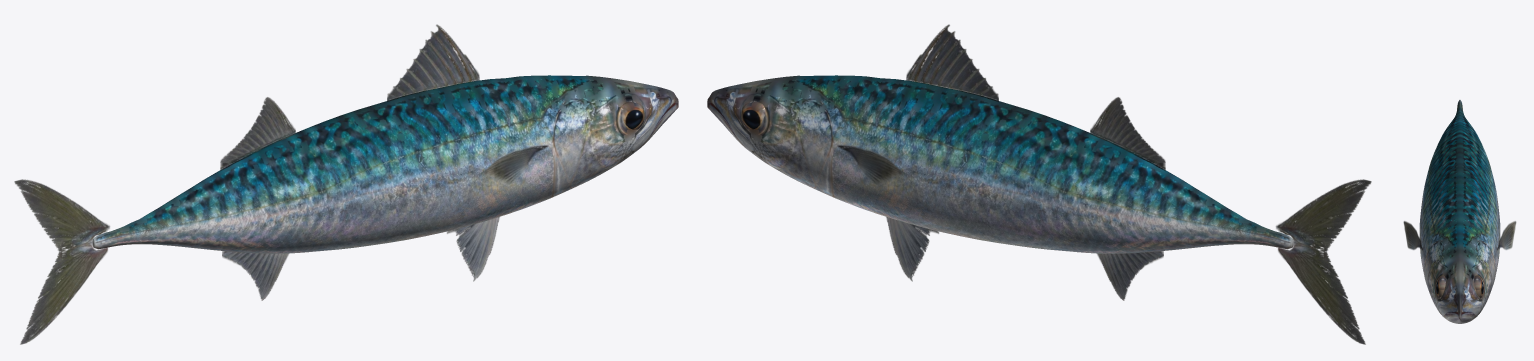
File: saba.glb
The picture shows the model from 3 angles, left to right: view 1: azimuth 30°, elevation 25°; view 2: azimuth 150°, elevation 25°; view 3: azimuth 270°, elevation 25°; orthographic projection. The views are drawn at different scales.
Parts seen in each view (by area): view 1: saba; view 2: saba; view 3: saba.
Part boxes in pixels (<box>): saba: <box>14,24,678,344</box>; saba: <box>707,24,1371,344</box>; saba: <box>1403,100,1516,323</box>.
Bounding box in the file's own units: 0.3505 × 0.1341 × 0.0737.
Materials: 1 (1 with a texture image).
